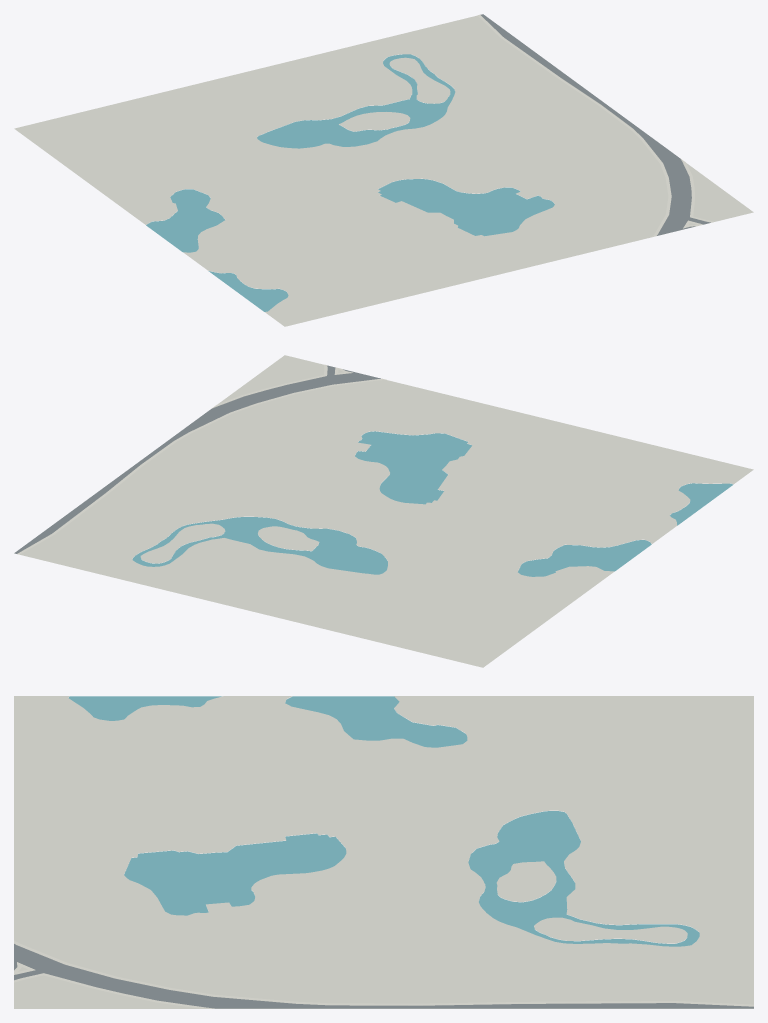
The picture shows the model from 3 angles, top to bottom: view 1: azimuth 30°, elevation 25°; view 2: azimuth 150°, elevation 25°; view 3: azimuth 270°, elevation 25°; orthographic projection. The views are drawn at different scales.
Visible parts, largest first — view 1: city; view 2: city; view 3: city.
Part boxes in pixels (x1=…): city: x1=14, y1=14, x2=753, y2=326; city: x1=14, y1=355, x2=753, y2=667; city: x1=14, y1=696, x2=753, y2=1008.
Size of the model in its own units: 500 by 0.4 by 500.
